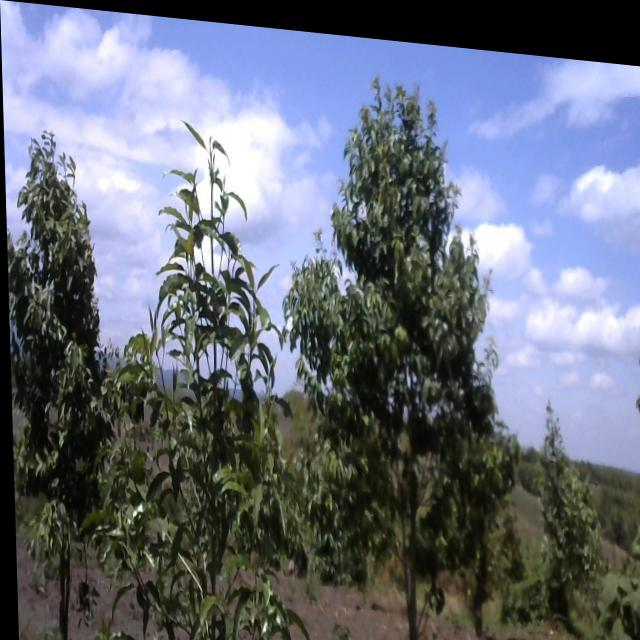Hass Avocado: (3, 123, 126, 640)
Syzygium gineense: (279, 60, 504, 640), (83, 132, 307, 640)
